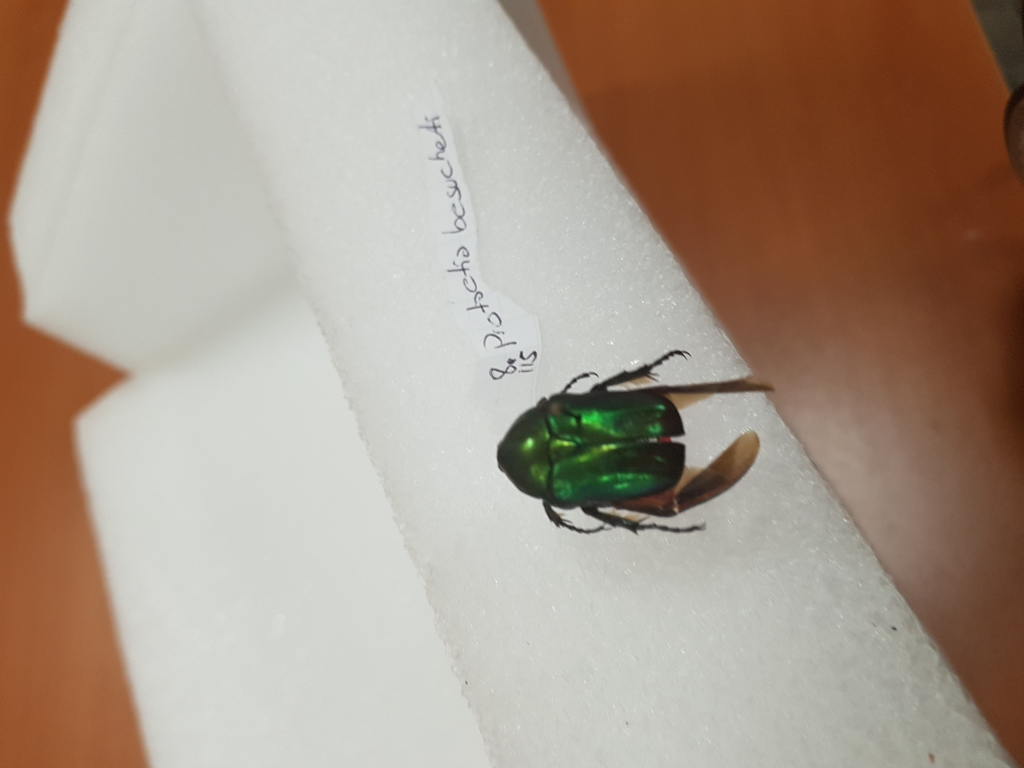Protaetia_besucheti: (498, 346, 712, 551)
